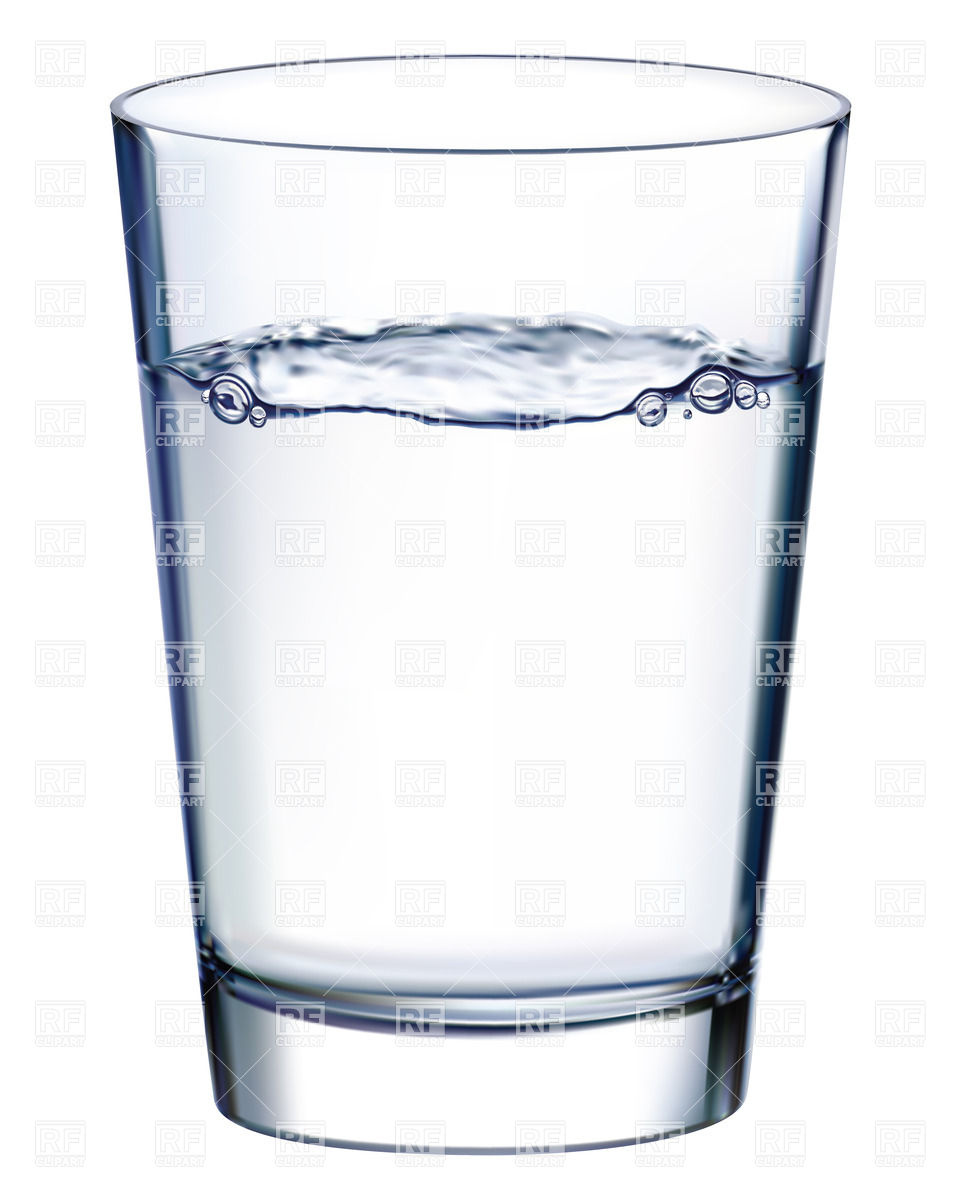glass of water: (152, 94, 772, 1107)
